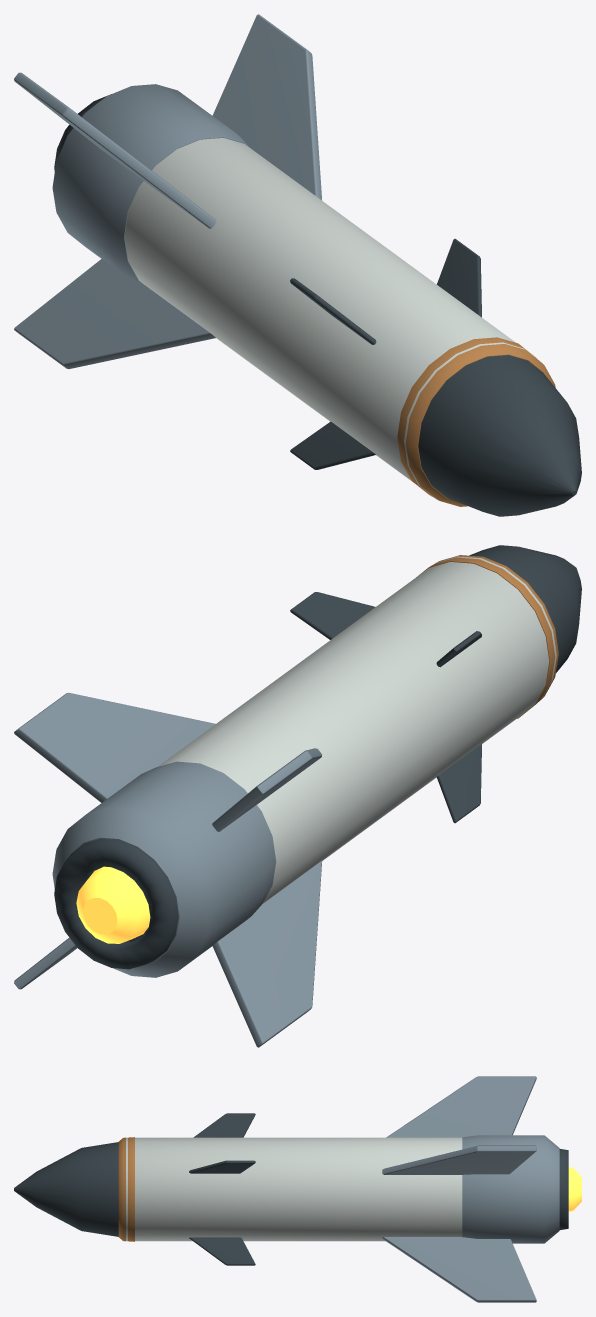
The model's file is missile.glb.
3 renders of one model, top to bottom at view 1: azimuth 30°, elevation 25°; view 2: azimuth 150°, elevation 25°; view 3: azimuth 270°, elevation 25°, orthographic. The views are drawn at different scales.
Visible parts, largest first — view 1: missile / Ivory ceramic, missile / Machined titanium, missile / Carbon ceramic, missile / Copper driving band; view 2: missile / Ivory ceramic, missile / Machined titanium, missile / Carbon ceramic, missile / Tracer ember, missile / Copper driving band; view 3: missile / Ivory ceramic, missile / Machined titanium, missile / Carbon ceramic, missile / Copper driving band, missile / Tracer ember.
Part boxes in pixels (x1=…): missile / Ivory ceramic: x1=124, y1=138, x2=541, y2=499; missile / Machined titanium: x1=14, y1=14, x2=321, y2=368; missile / Carbon ceramic: x1=54, y1=94, x2=581, y2=516; missile / Copper driving band: x1=397, y1=337, x2=555, y2=506; missile / Ivory ceramic: x1=157, y1=556, x2=556, y2=903; missile / Machined titanium: x1=14, y1=693, x2=322, y2=1047; missile / Carbon ceramic: x1=54, y1=545, x2=581, y2=969; missile / Tracer ember: x1=76, y1=866, x2=150, y2=943; missile / Copper driving band: x1=419, y1=555, x2=558, y2=718; missile / Ivory ceramic: x1=126, y1=1137, x2=462, y2=1241; missile / Machined titanium: x1=382, y1=1076, x2=559, y2=1302; missile / Carbon ceramic: x1=14, y1=1113, x2=568, y2=1265; missile / Copper driving band: x1=118, y1=1137, x2=134, y2=1241; missile / Tracer ember: x1=568, y1=1167, x2=581, y2=1211.
Bounding box in the file's own units: 11.53 × 11.53 × 38.
